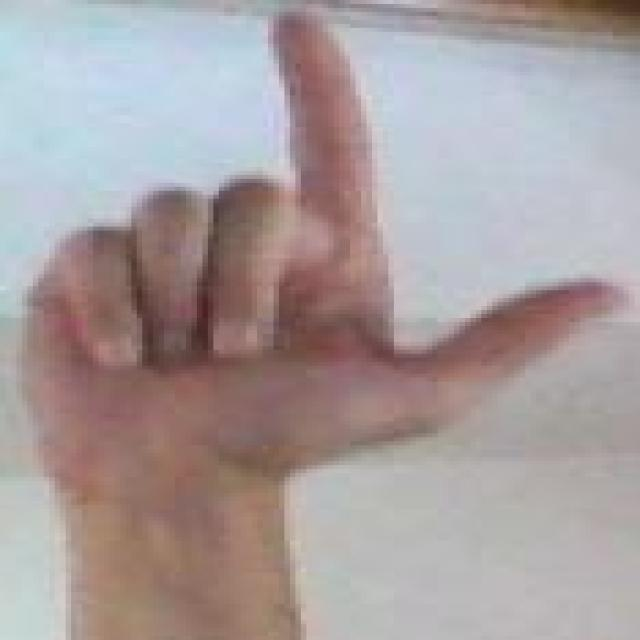L: (0, 0, 629, 477)
